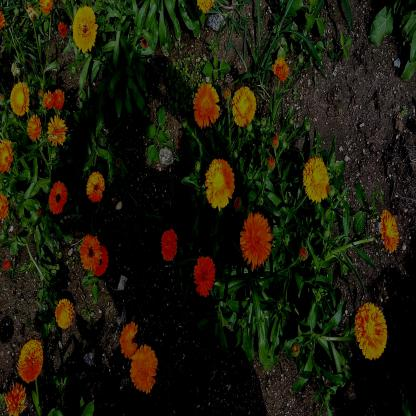marigold: (240, 212, 274, 272), (354, 301, 388, 361), (205, 158, 235, 210), (130, 343, 158, 394), (192, 82, 220, 129), (302, 156, 330, 203), (72, 5, 98, 54), (17, 339, 43, 383), (193, 254, 216, 297), (232, 87, 256, 126), (80, 233, 102, 270), (119, 322, 139, 362), (380, 208, 398, 252), (4, 382, 27, 415), (10, 81, 30, 116), (54, 298, 74, 331), (160, 226, 178, 262), (48, 180, 67, 214), (85, 170, 105, 202), (47, 114, 66, 146), (91, 243, 108, 275), (271, 56, 290, 82), (0, 140, 14, 174), (27, 114, 42, 140), (52, 89, 64, 110), (43, 90, 54, 111)
